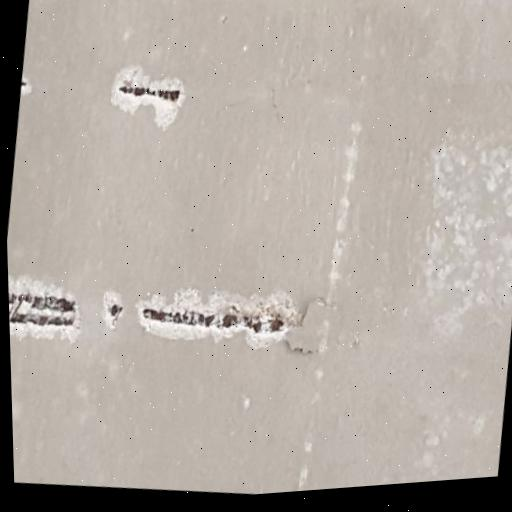exposed_rebar: (9, 290, 76, 326), (141, 306, 204, 329), (119, 82, 180, 102), (222, 314, 238, 328), (270, 318, 284, 332), (110, 305, 122, 316), (243, 317, 252, 330), (205, 315, 214, 327), (253, 321, 262, 333)
spalling: (137, 288, 302, 348), (8, 275, 80, 341), (112, 66, 185, 130), (104, 292, 123, 329), (21, 73, 32, 95)
